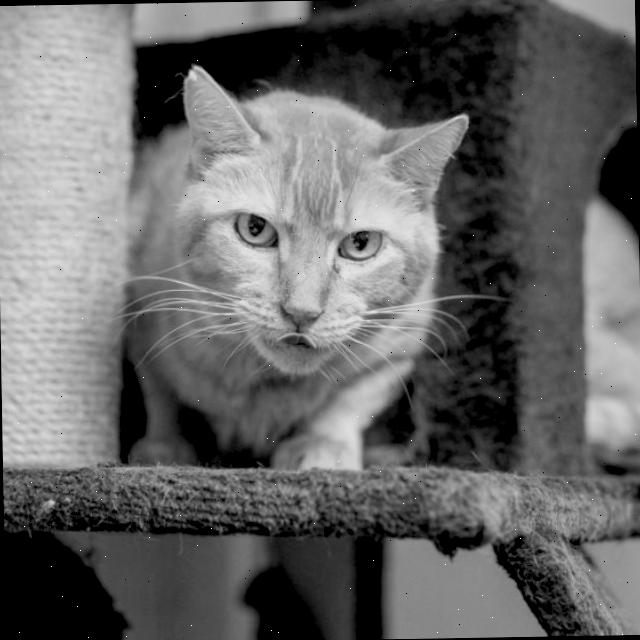domestic_short_hair_cat: (151, 38, 483, 406)
